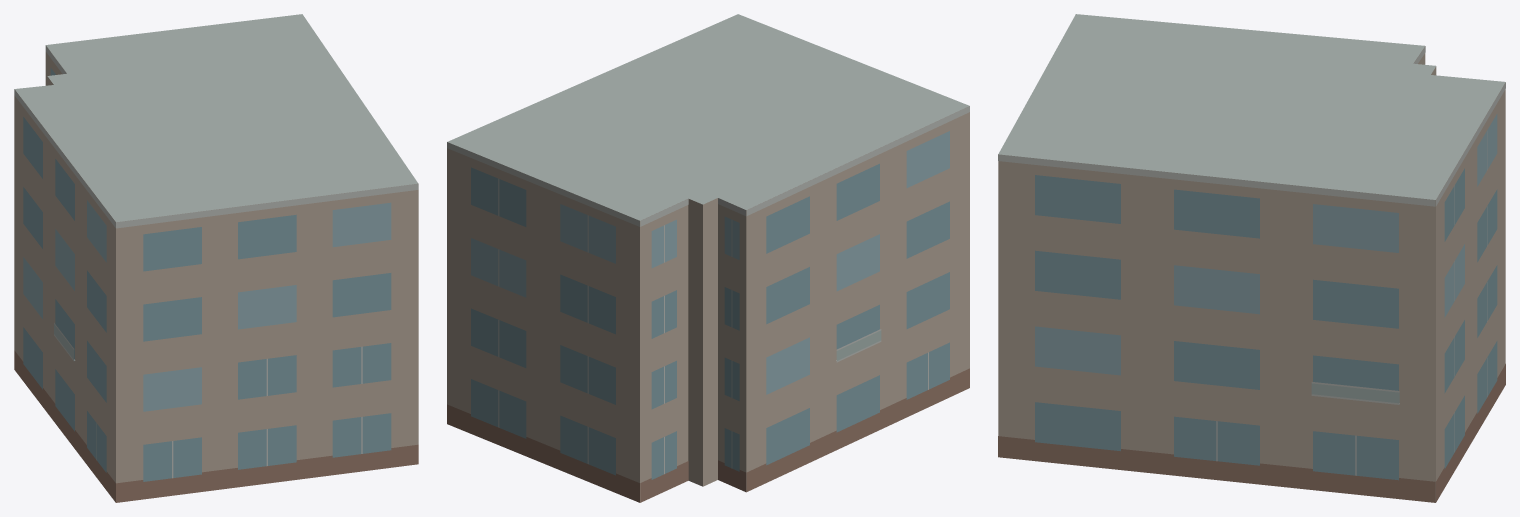
File: survey-upis-32738348.glb
The picture shows the model from 3 angles, left to right: view 1: azimuth 30°, elevation 25°; view 2: azimuth 150°, elevation 25°; view 3: azimuth 270°, elevation 25°; orthographic projection. The views are drawn at different scales.
Visible parts, largest first — view 1: survey-upis-32738348.tmp; view 2: survey-upis-32738348.tmp; view 3: survey-upis-32738348.tmp.
Part boxes in pixels (x1,y1,x2,y2): survey-upis-32738348.tmp: [14, 14, 418, 502]; survey-upis-32738348.tmp: [447, 14, 969, 502]; survey-upis-32738348.tmp: [998, 14, 1505, 502].
Bounding box in the file's own units: 14.57 × 11.05 × 16.8.
